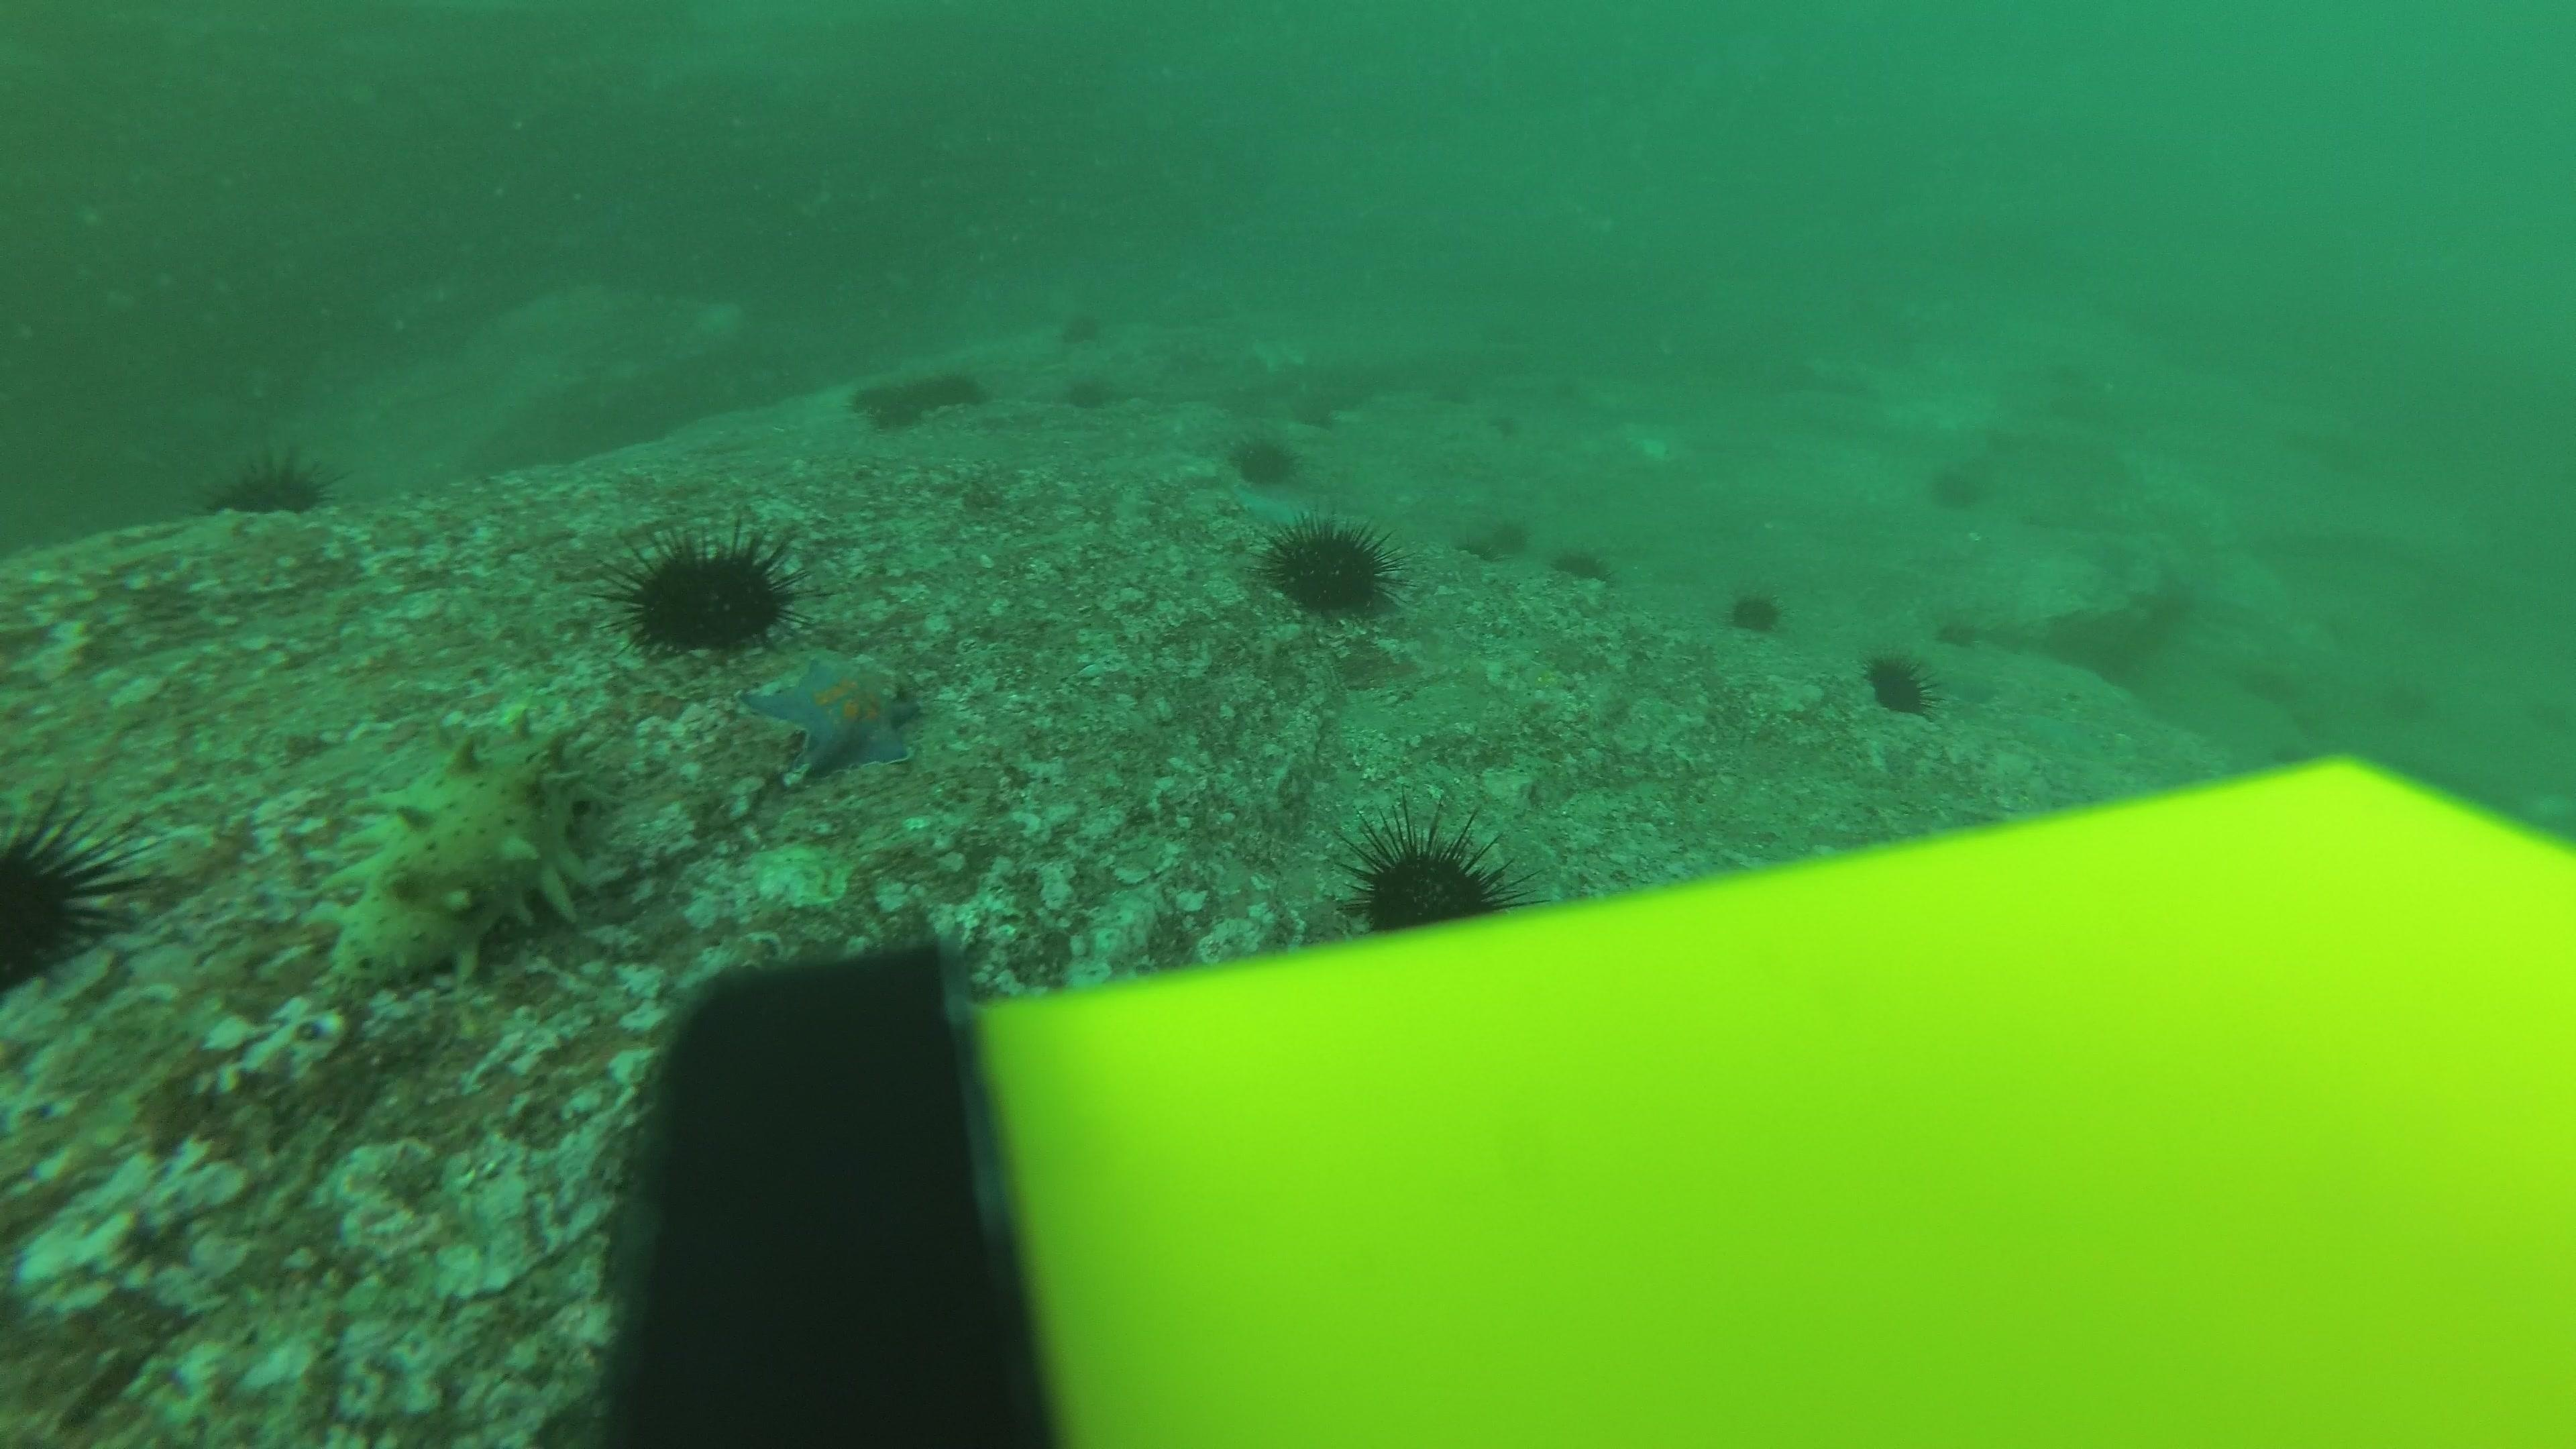echinus: (2, 787, 147, 1000), (616, 527, 800, 658), (1345, 812, 1516, 934), (1265, 515, 1396, 619), (216, 446, 331, 522), (1863, 646, 1937, 717), (1228, 426, 1300, 488), (1925, 453, 1990, 515), (1456, 510, 1529, 564), (1725, 580, 1785, 635), (1550, 538, 1610, 586), (839, 372, 893, 416), (858, 395, 913, 439), (881, 373, 936, 418), (927, 366, 982, 410), (1063, 370, 1118, 412), (1491, 403, 1546, 446), (1058, 306, 1109, 350)
holothurian: (318, 715, 616, 1000)
starfish: (740, 644, 925, 782), (1223, 481, 1315, 529)
